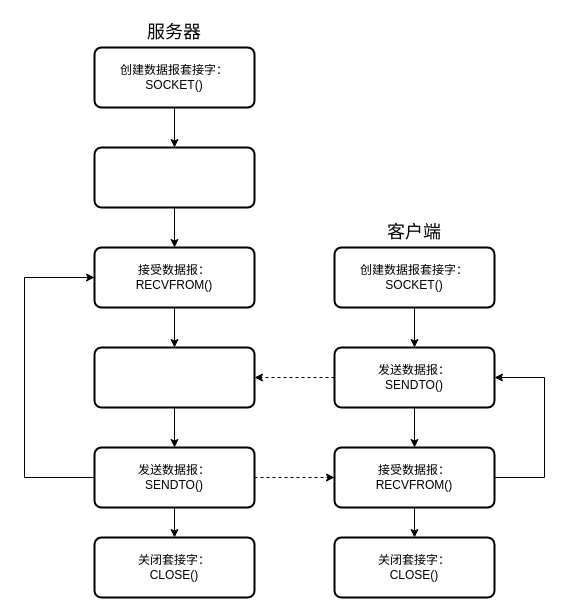
Image size: 570x615. Some labels were removed from this diagram. The box of each missing label's shape, as (x1, y1, x2, y2) in pixels:
绑定套接字： BIND(): (93, 146, 255, 208)
阻塞，等待客户端数据 处理客户端数据: (93, 346, 255, 408)
